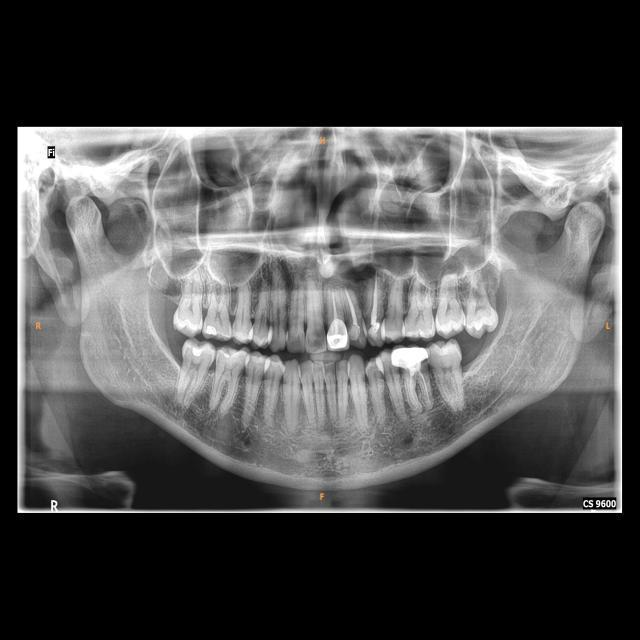dolgu: (435, 318, 467, 335), (200, 321, 222, 342), (468, 316, 493, 332), (189, 342, 206, 363), (243, 321, 256, 341)
kanal-tedavisi: (402, 368, 432, 408), (364, 272, 381, 324), (343, 287, 360, 326), (328, 286, 340, 319)
kaplama: (391, 341, 429, 370), (326, 320, 350, 348)
